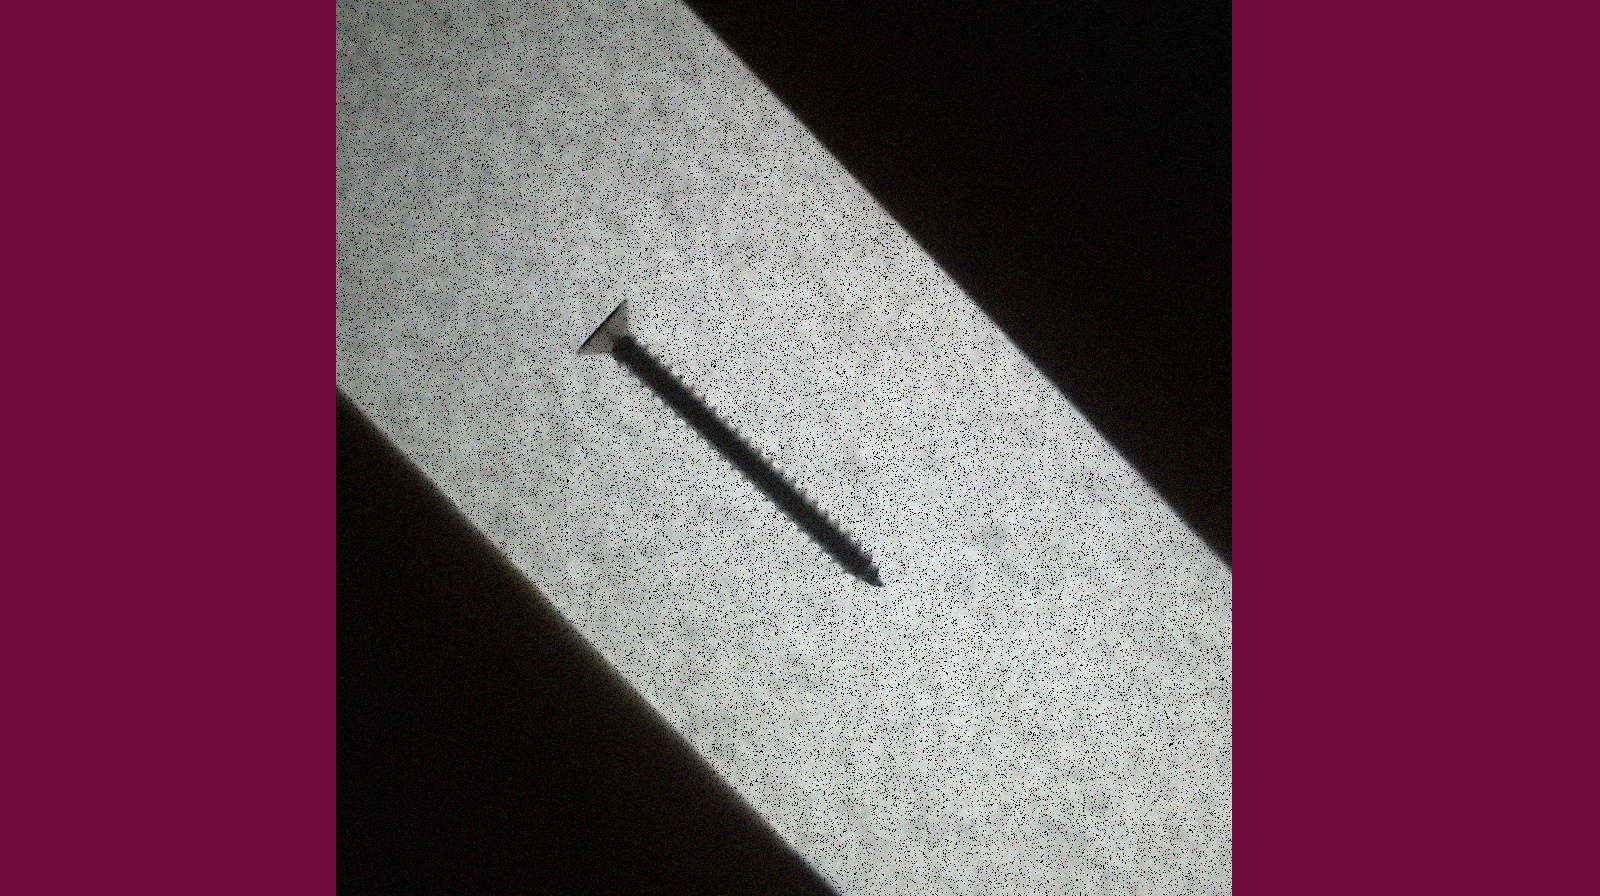S002: (558, 292, 898, 596)
